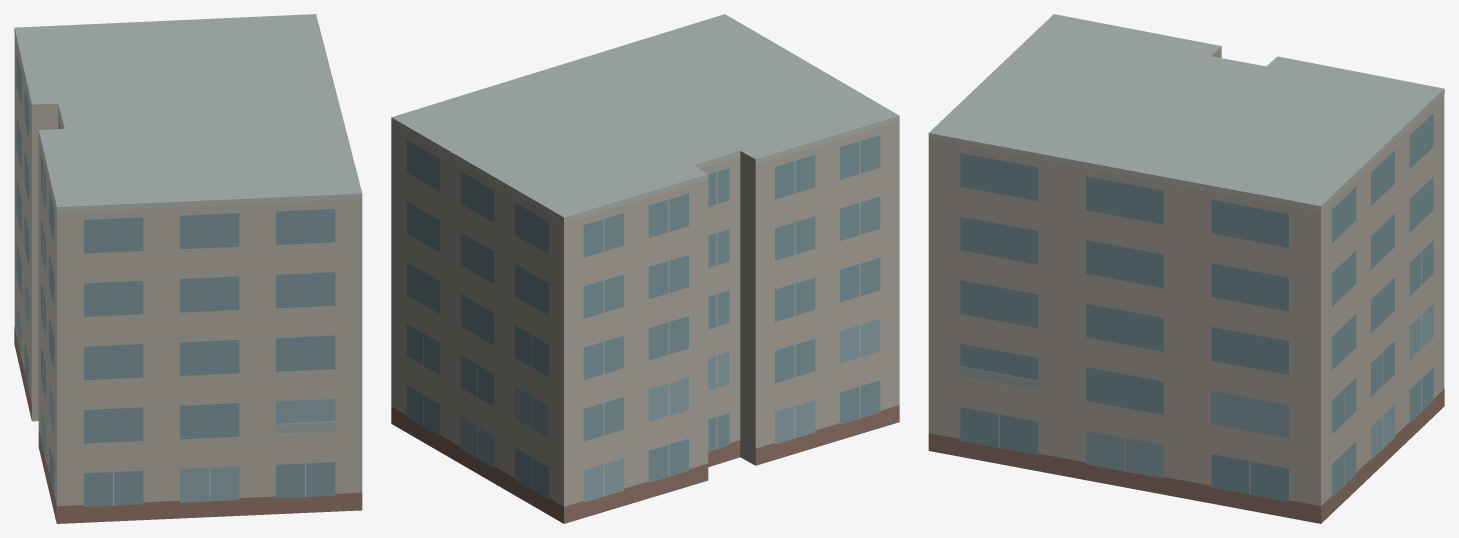
File: survey-upis-33032946.glb
3 renders of one model, left to right at view 1: azimuth 30°, elevation 25°; view 2: azimuth 150°, elevation 25°; view 3: azimuth 270°, elevation 25°, orthographic. The views are drawn at different scales.
Visible parts, largest first — view 1: survey-upis-33032946.tmp; view 2: survey-upis-33032946.tmp; view 3: survey-upis-33032946.tmp.
Boxes of the visible parts, x1,y1,x2,y2 form: survey-upis-33032946.tmp: [14, 14, 362, 523]; survey-upis-33032946.tmp: [391, 14, 899, 523]; survey-upis-33032946.tmp: [928, 14, 1444, 523].
Bounding box in the file's own units: 17.83 × 13.75 × 20.24.
